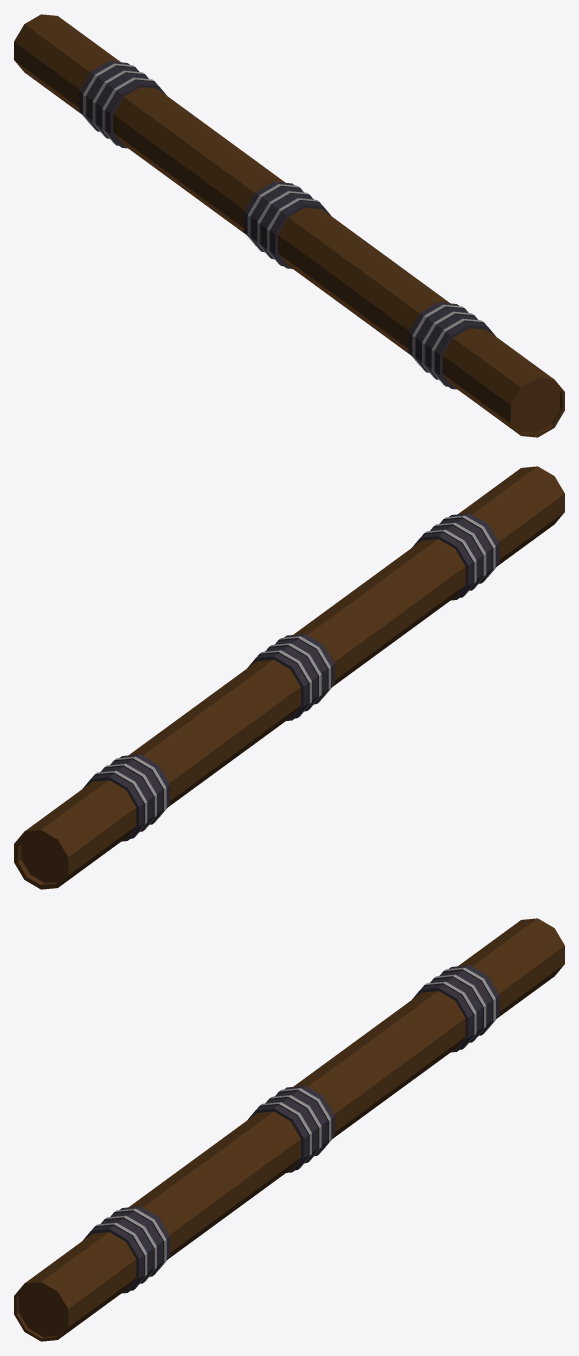
File: Logbasic.fbx
3 renders of one model, top to bottom at view 1: azimuth 30°, elevation 25°; view 2: azimuth 150°, elevation 25°; view 3: azimuth 330°, elevation 25°, orthographic.
Visible parts, largest first — view 1: Cylinder, Cylinder.003, Cylinder.002, Cylinder.001; view 2: Cylinder, Cylinder.003, Cylinder.002, Cylinder.001; view 3: Cylinder, Cylinder.003, Cylinder.002, Cylinder.001.
Boxes of the visible parts, x1,y1,x2,y2 form: Cylinder: [14, 14, 564, 437]; Cylinder.003: [408, 302, 495, 389]; Cylinder.002: [79, 61, 166, 148]; Cylinder.001: [244, 181, 330, 268]; Cylinder: [14, 466, 564, 889]; Cylinder.003: [412, 513, 499, 600]; Cylinder.002: [83, 754, 170, 841]; Cylinder.001: [247, 634, 334, 720]; Cylinder: [14, 918, 564, 1341]; Cylinder.003: [83, 1206, 170, 1293]; Cylinder.002: [412, 965, 499, 1052]; Cylinder.001: [248, 1085, 334, 1172].
Bounding box in the file's own units: 217 × 228 × 3017.
